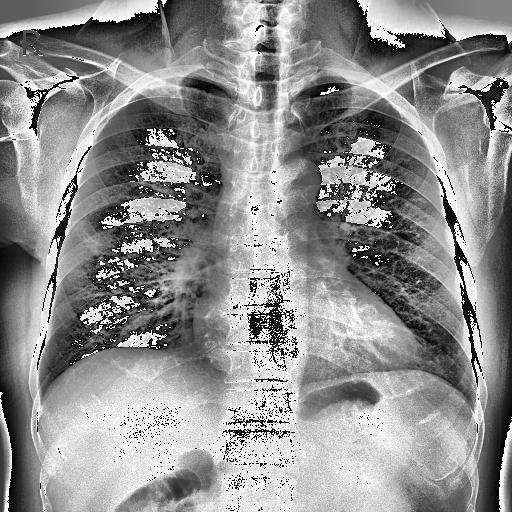0- Aortic enlargement: (276, 158, 324, 236)
11- Pleural thickening: (136, 78, 166, 92)
3- Cardiomegaly: (190, 293, 422, 373), (190, 308, 416, 384), (191, 304, 422, 366)
